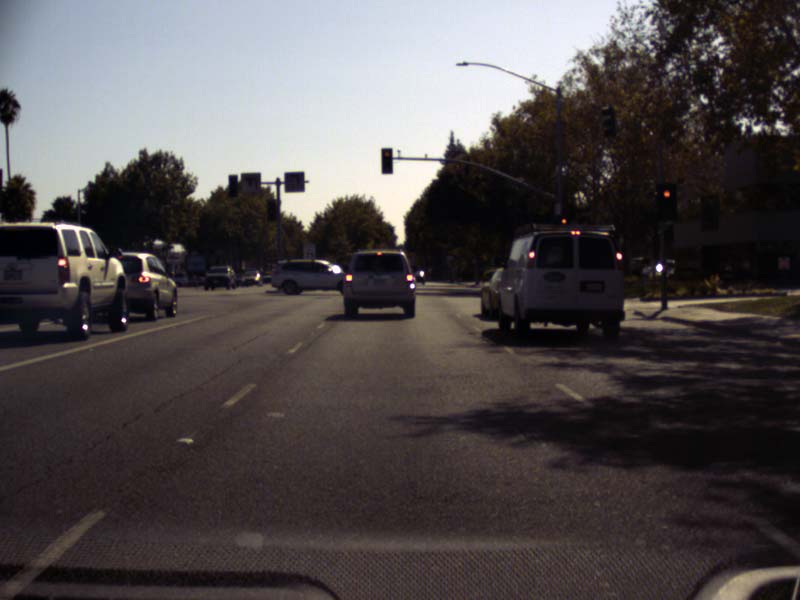Red: (655, 182, 677, 220), (380, 147, 392, 174), (558, 215, 568, 240)
